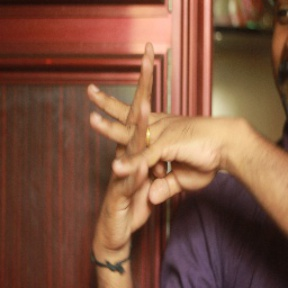W: (84, 39, 219, 232)
